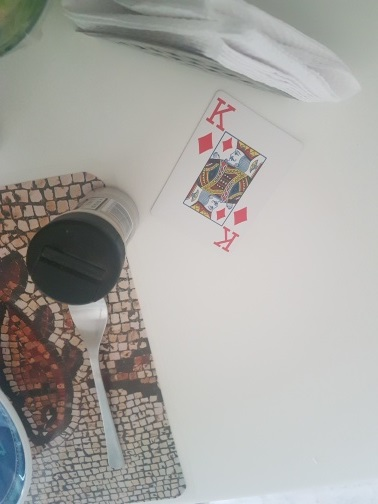king: (151, 91, 306, 259)
